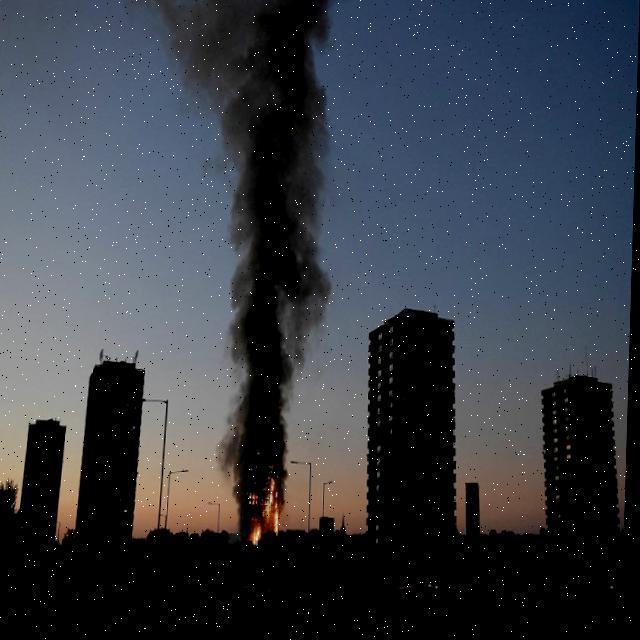Fire: (264, 482, 286, 534), (252, 524, 264, 550)
